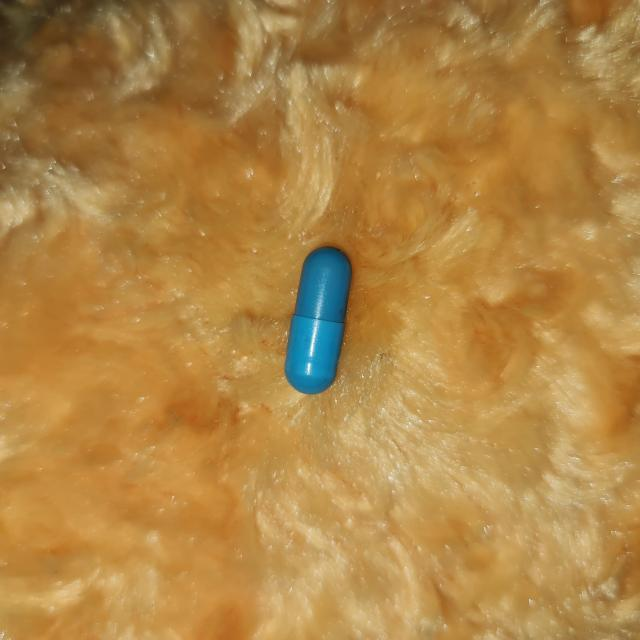pill: (283, 246, 354, 396)
